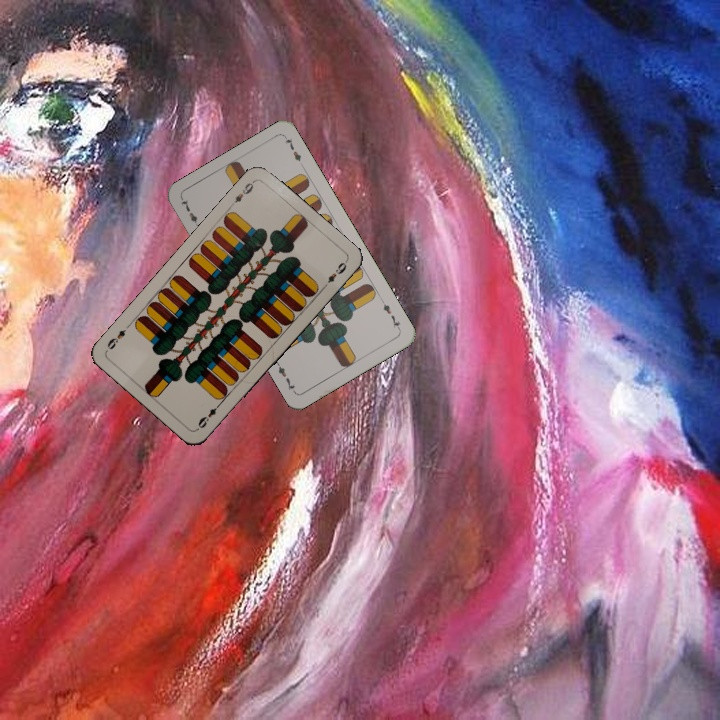E7: (177, 195, 203, 232), (378, 296, 403, 333)
E9: (226, 177, 257, 210), (194, 398, 224, 431)
